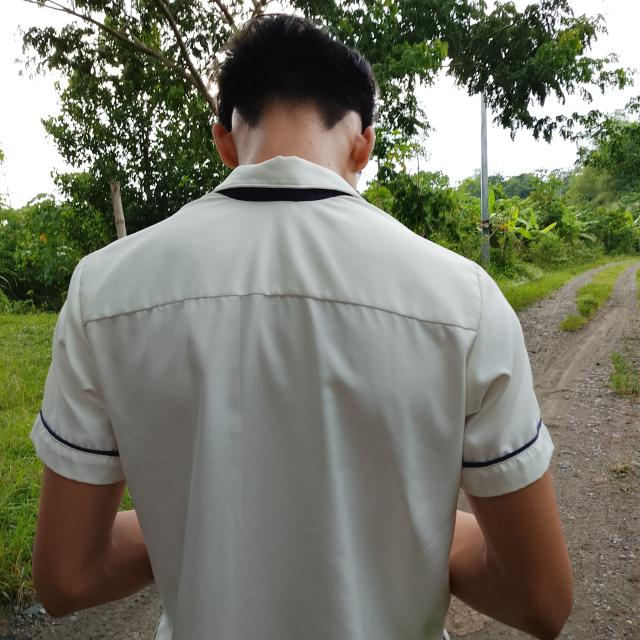education_male_uniform: (4, 126, 623, 539)
